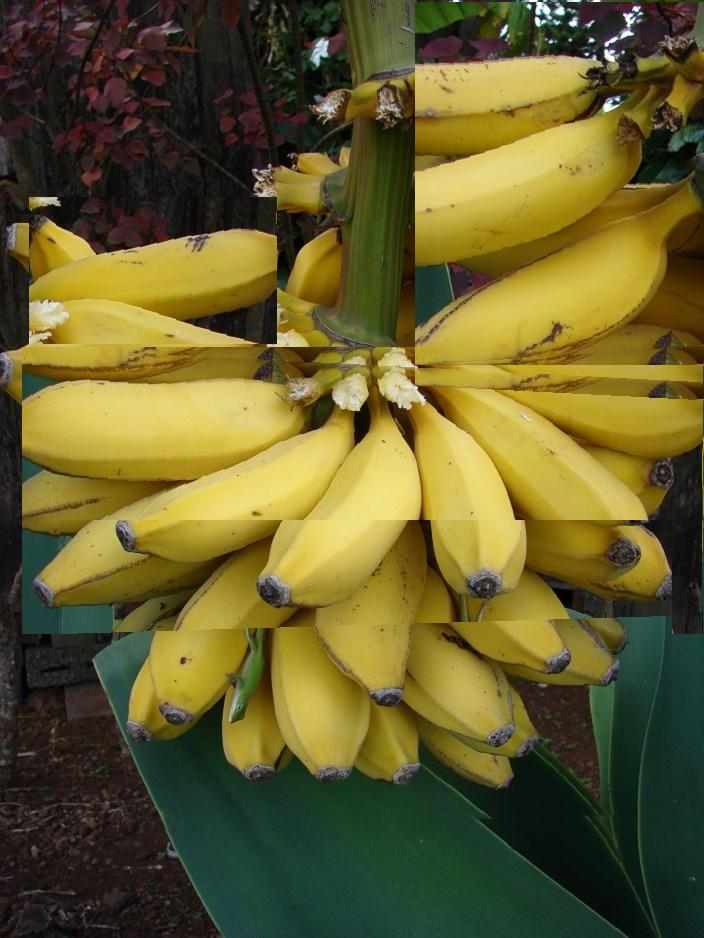Banana Fresh: (22, 347, 704, 634), (60, 520, 672, 832), (415, 2, 704, 365), (30, 198, 278, 345)
